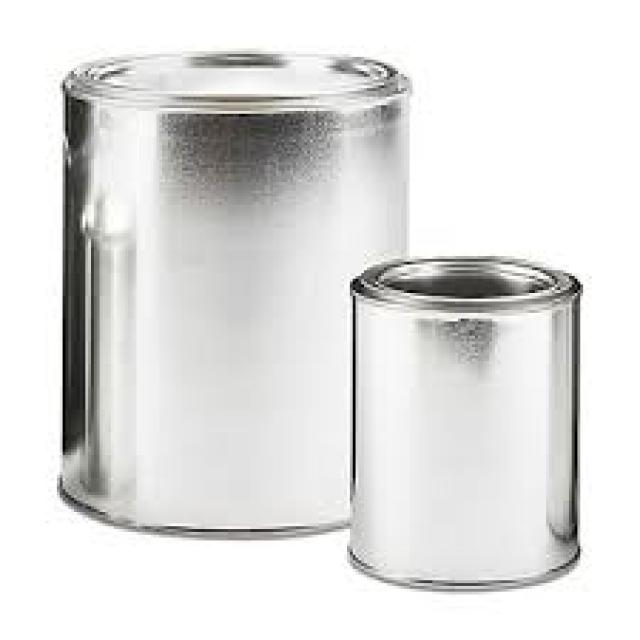metal: (54, 49, 407, 538), (345, 253, 578, 589)
